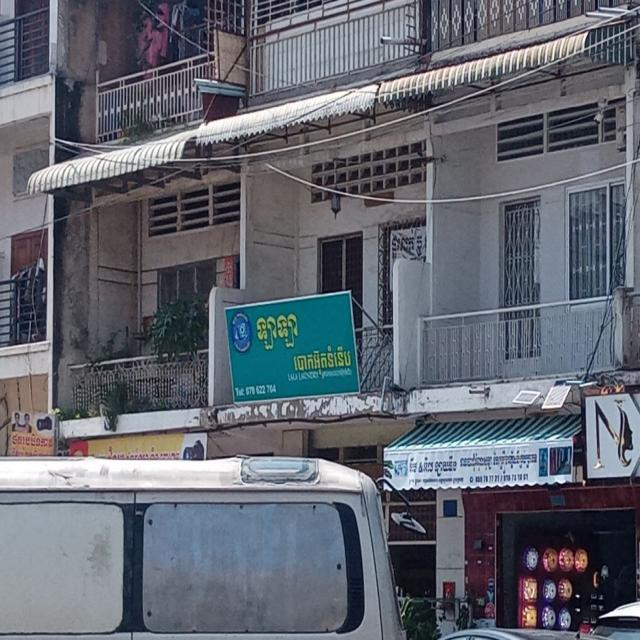Yolov11kh: (284, 336, 358, 378), (253, 304, 308, 359)
